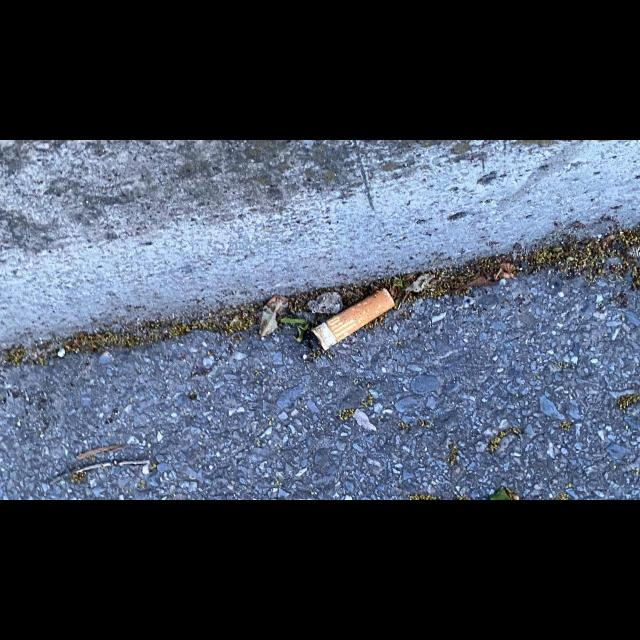cigarette: (310, 287, 396, 352)
